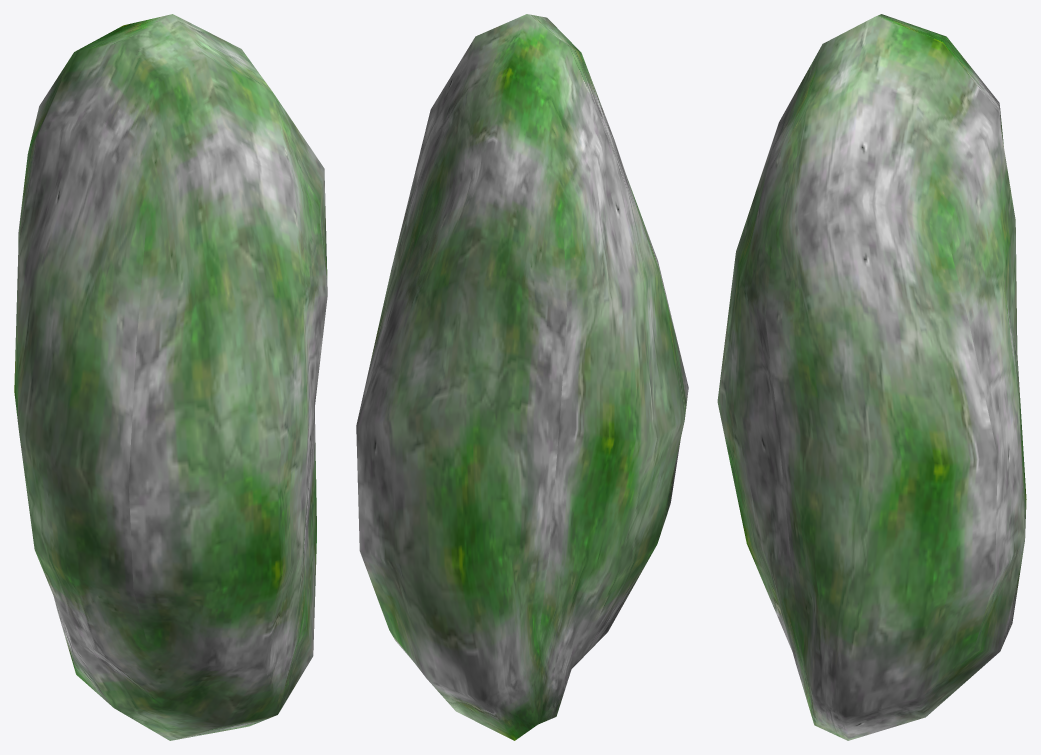
Rendered from INST_HTOWN_ROCKB.fbx.
3 views of the same model, side by side, from view 1: azimuth 30°, elevation 25°; view 2: azimuth 150°, elevation 25°; view 3: azimuth 270°, elevation 25° (orthographic). The views are drawn at different scales.
Parts seen in each view (by area): view 1: INST_HTOWN_ROCKB; view 2: INST_HTOWN_ROCKB; view 3: INST_HTOWN_ROCKB.
Boxes of the visible parts, left/top/right/bottom form: INST_HTOWN_ROCKB: left=14, top=14, right=327, bottom=740; INST_HTOWN_ROCKB: left=356, top=14, right=688, bottom=740; INST_HTOWN_ROCKB: left=717, top=14, right=1026, bottom=740.
Size of the model in its own units: 20412 by 50960 by 20412.
1 material, 1 textured.
